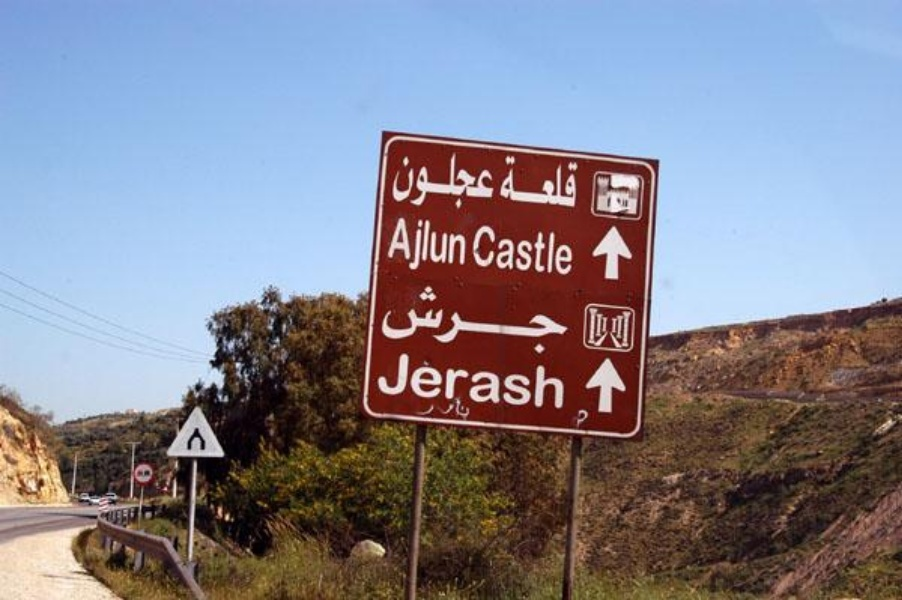text: (385, 280, 400, 358), (401, 280, 416, 358), (417, 280, 432, 358), (433, 280, 448, 358), (449, 280, 464, 358), (465, 280, 480, 358), (481, 280, 496, 358), (497, 280, 512, 358), (513, 280, 528, 358), (529, 280, 544, 358), (545, 280, 560, 358), (561, 280, 575, 358), (401, 142, 416, 213), (417, 142, 432, 213), (433, 142, 448, 213), (449, 142, 464, 213), (465, 142, 480, 213), (481, 142, 496, 213), (401, 210, 416, 276), (417, 210, 432, 276), (433, 210, 448, 276), (449, 210, 464, 276), (385, 349, 400, 410), (401, 349, 416, 410), (417, 349, 432, 410), (433, 349, 448, 410), (449, 349, 464, 410), (465, 349, 480, 410), (481, 349, 496, 410), (497, 349, 512, 410), (513, 349, 528, 410), (529, 349, 544, 410), (545, 349, 560, 410), (513, 152, 528, 210), (529, 152, 544, 210), (545, 152, 560, 210), (561, 152, 576, 210), (481, 222, 496, 279), (497, 222, 512, 279), (513, 222, 528, 279), (529, 222, 544, 279), (545, 222, 560, 279), (561, 222, 576, 279), (503, 152, 512, 210), (379, 349, 384, 410), (561, 349, 566, 410), (476, 222, 480, 279), (397, 142, 400, 213), (397, 210, 400, 276), (465, 210, 467, 276), (577, 152, 579, 210), (497, 142, 498, 213)
